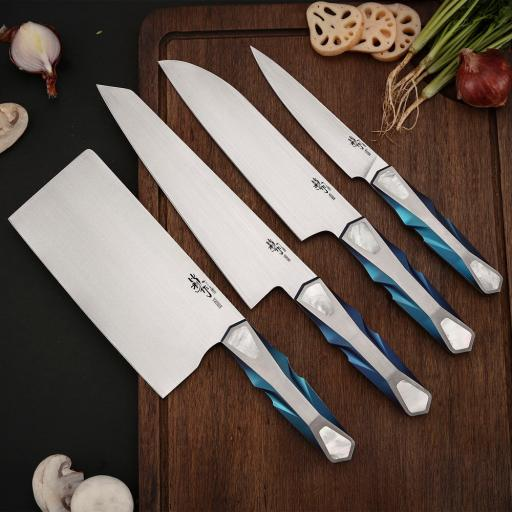knife: (87, 84, 437, 426)
